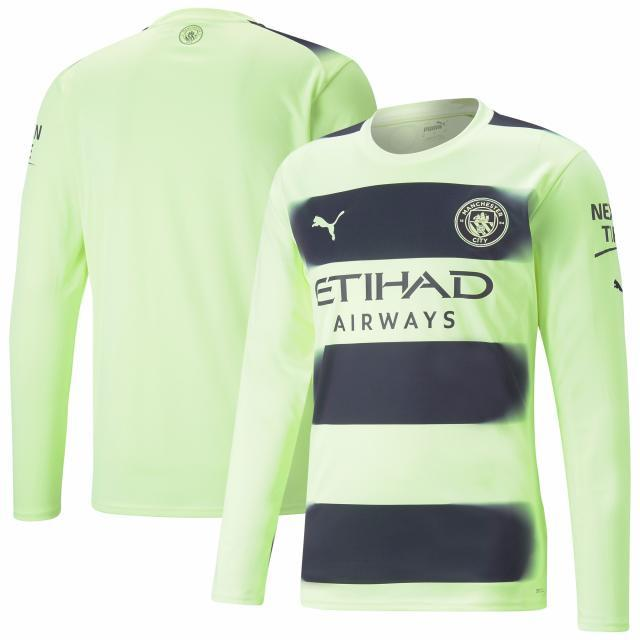Etihad Airways: (313, 263, 492, 332)
Puma: (311, 209, 346, 242)
